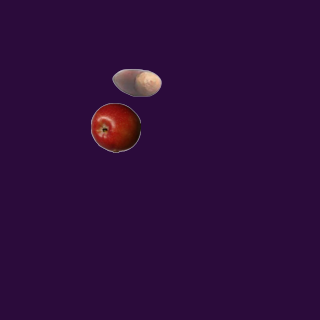Apple Braeburn: (90, 102, 140, 152)
Hazelnut: (111, 57, 161, 107)
